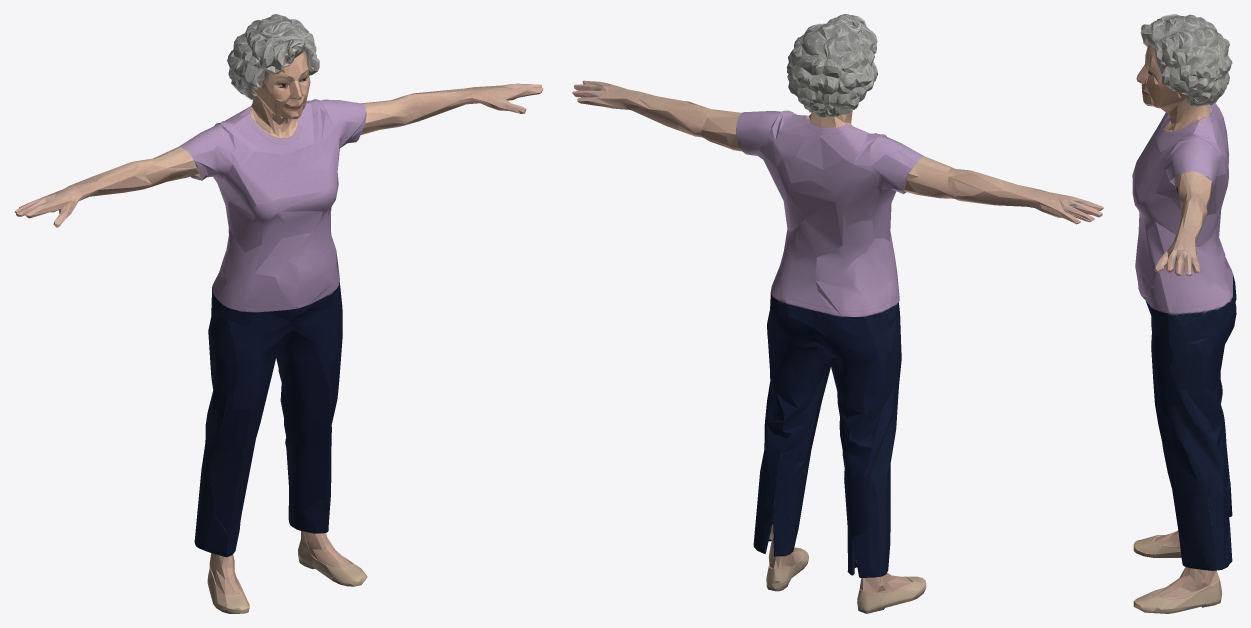
The model's file is image3d.glb.
3 renders of one model, left to right at view 1: azimuth 30°, elevation 25°; view 2: azimuth 150°, elevation 25°; view 3: azimuth 270°, elevation 25°, orthographic.
Size of the model in its own units: 1.86 by 1.9 by 0.3191.
Materials: 1 (1 with a texture image).
